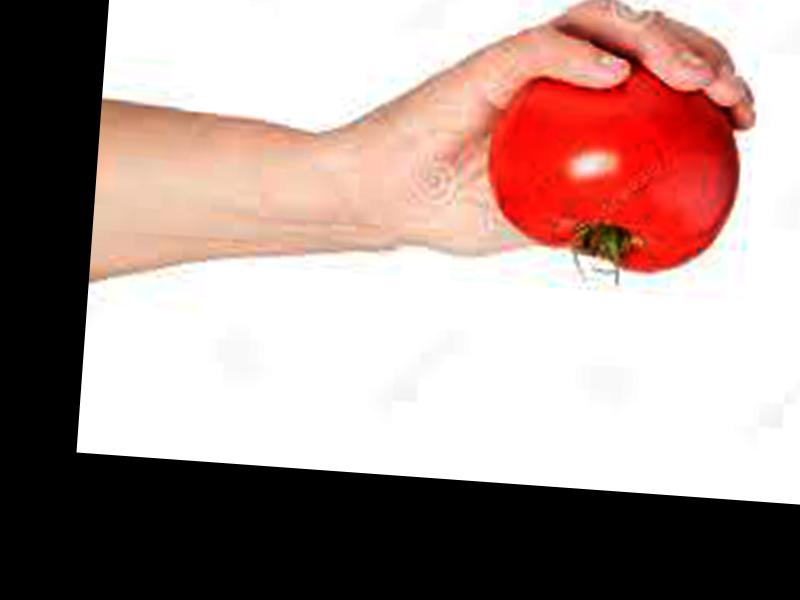Tomato: (478, 51, 746, 280)
